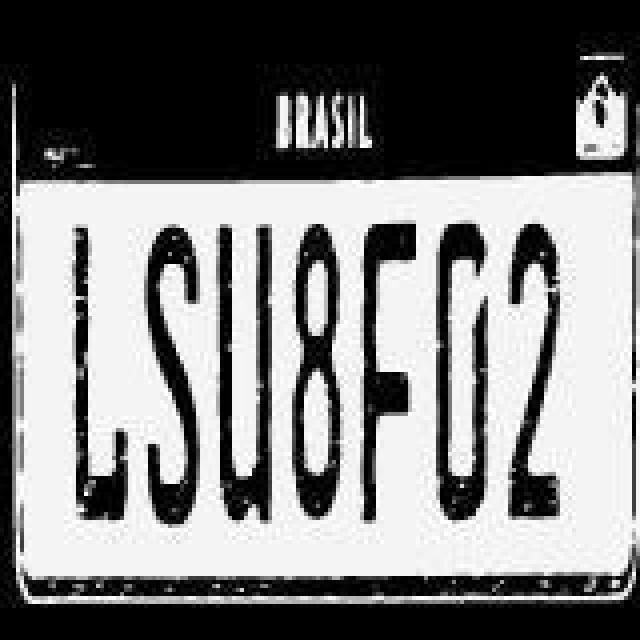2: (504, 222, 568, 530)
8: (292, 218, 348, 518)
D: (434, 220, 494, 524)
F: (364, 212, 420, 524)
L: (56, 220, 136, 532)
S: (144, 224, 200, 528)
U: (208, 180, 288, 524)
